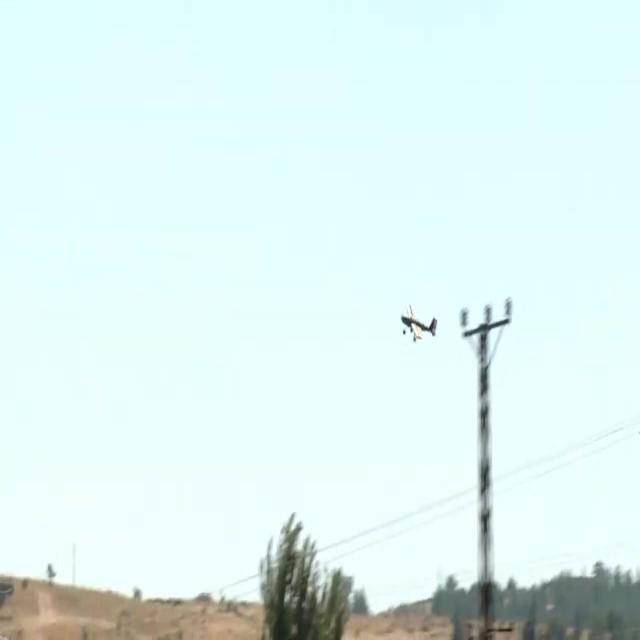iha: (400, 301, 438, 343)
